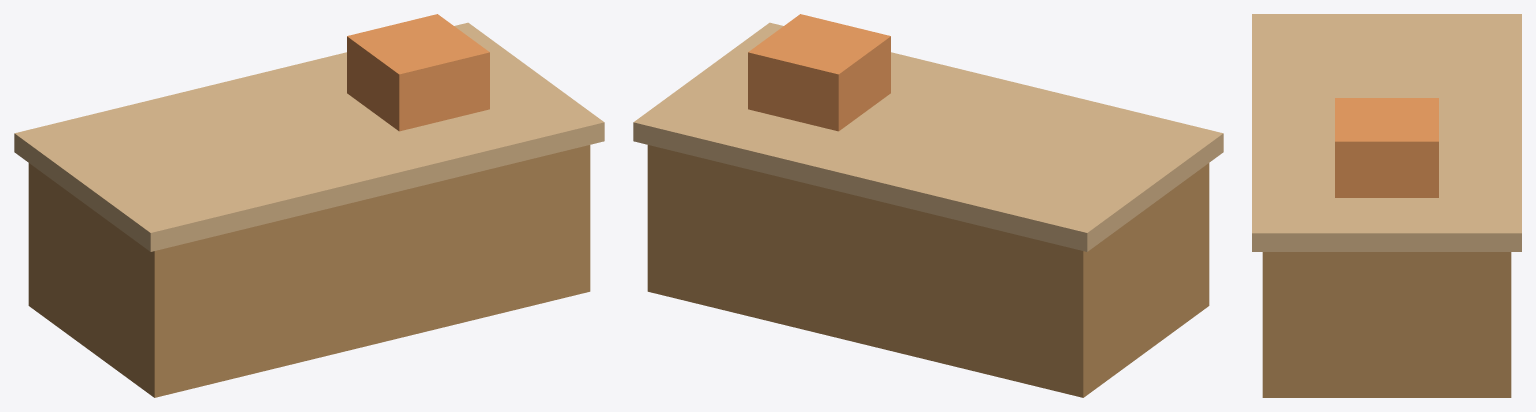
The model's file is counter.glb.
3 views of the same model, side by side, from view 1: azimuth 30°, elevation 25°; view 2: azimuth 150°, elevation 25°; view 3: azimuth 270°, elevation 25° (orthographic).
Visible parts, largest first — view 1: counter; view 2: counter; view 3: counter.
Part boxes in pixels (bbox=[...]): counter: bbox=[14, 14, 604, 397]; counter: bbox=[633, 14, 1223, 397]; counter: bbox=[1252, 14, 1521, 397].
Size of the model in its own units: 50 by 24 by 26.
